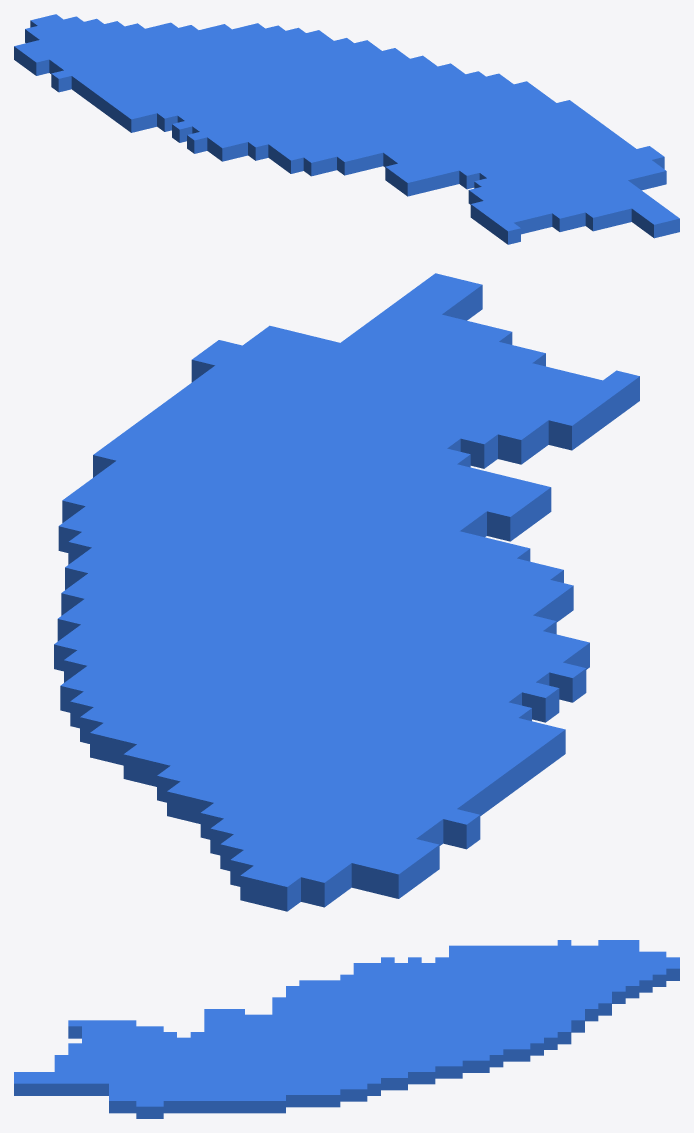
The model's file is Terengganu.fbx.
3 renders of one model, top to bottom at view 1: azimuth 30°, elevation 25°; view 2: azimuth 150°, elevation 25°; view 3: azimuth 270°, elevation 25°, orthographic. The views are drawn at different scales.
Parts seen in each view (by area): view 1: Terengganu; view 2: Terengganu; view 3: Terengganu.
Boxes of the visible parts, x1,y1,x2,y2 form: Terengganu: [14, 14, 679, 244]; Terengganu: [54, 273, 639, 911]; Terengganu: [14, 940, 679, 1118].
Bounding box in the file's own units: 29 × 1 × 49.
1 material, 1 textured.
